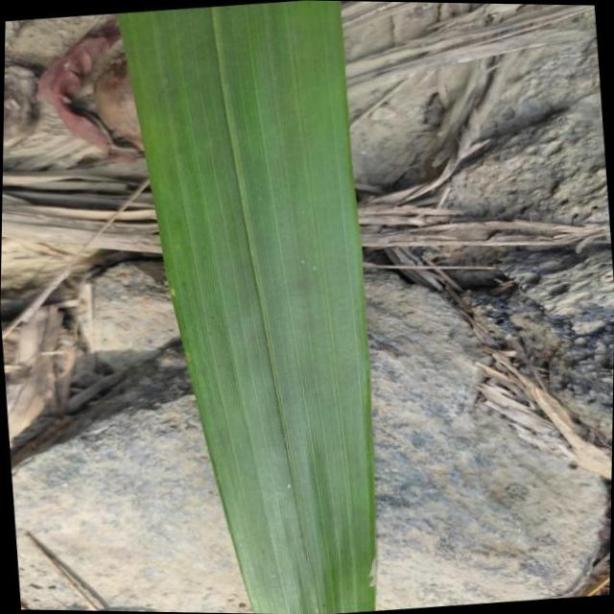Healthy: (116, 12, 378, 614)
